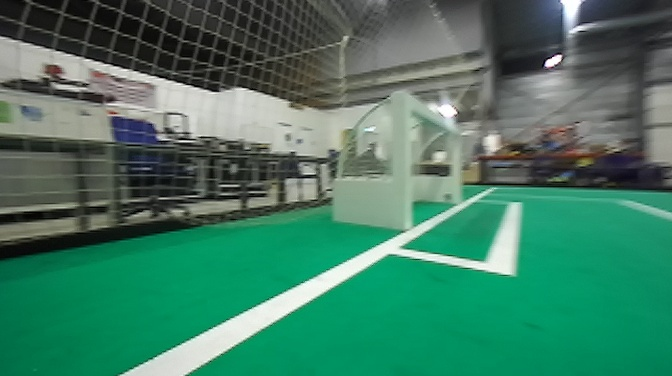goalpost: (385, 86, 415, 236), (437, 115, 464, 210)
